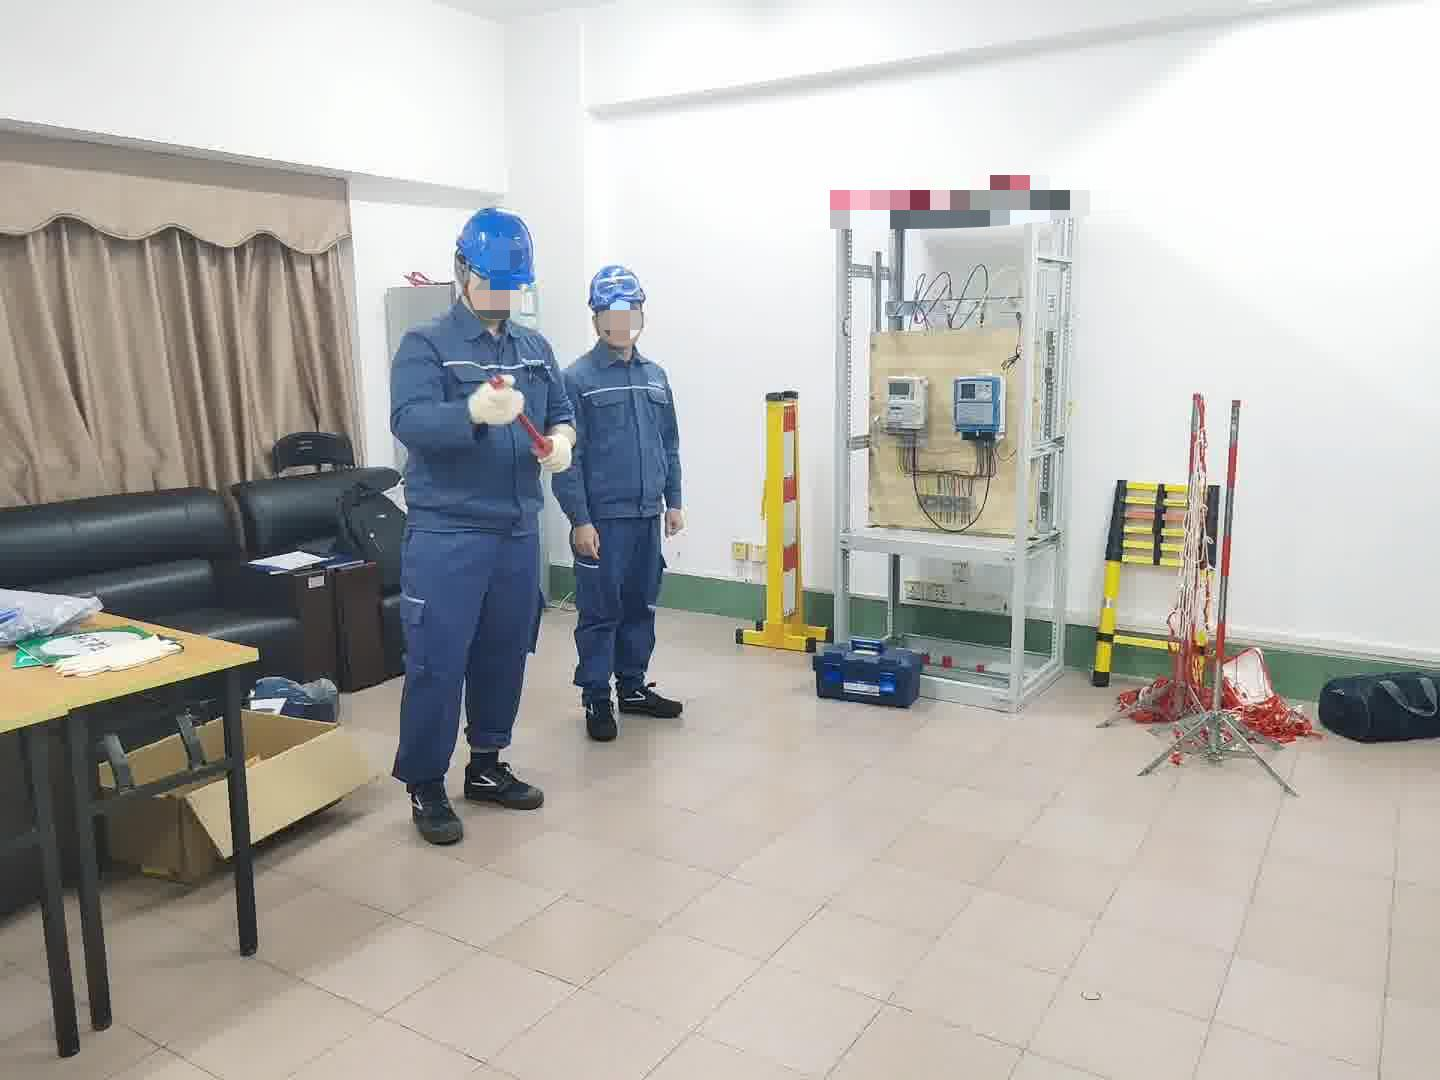halt: (456, 209, 541, 324), (588, 264, 653, 352)
